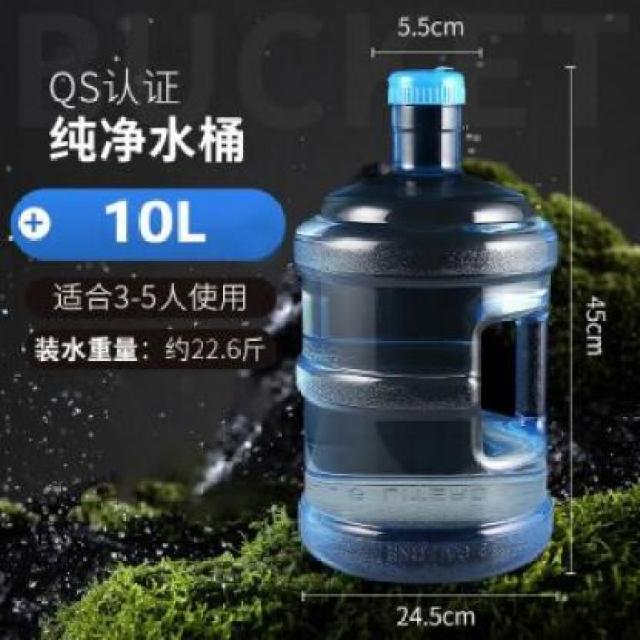coolerbottle: (291, 63, 565, 591)
